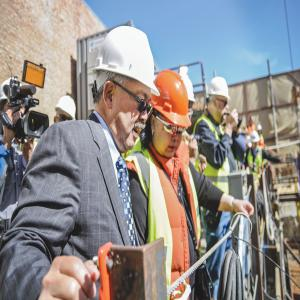white: (93, 24, 153, 151), (206, 78, 232, 125), (55, 96, 78, 127)
yellow: (151, 68, 192, 163)
